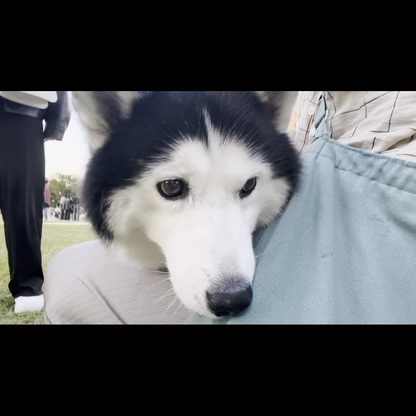husky: (72, 93, 313, 322)
